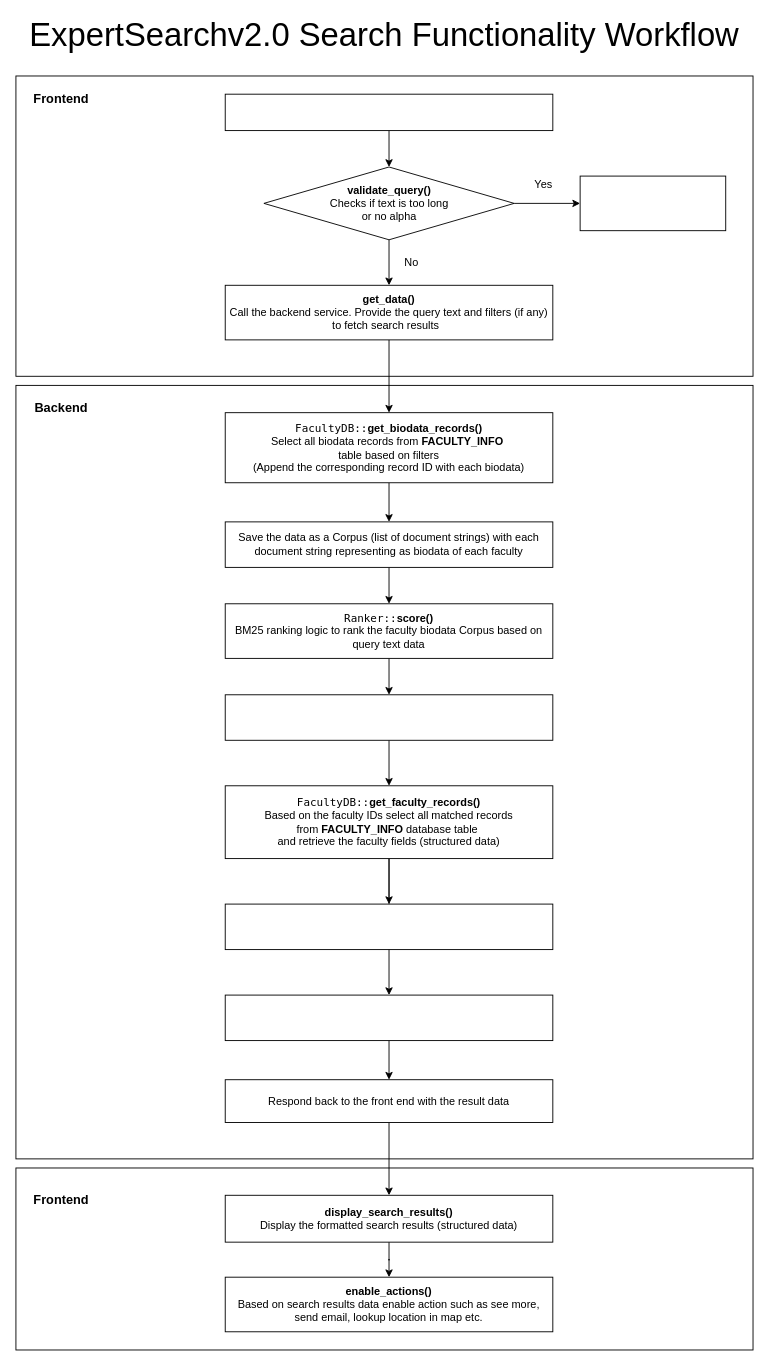
The diagram is 769 pixels wide and 1366 high, and some of its shapes have lost their labels. The shapes that lost their labels are listed below. From the top down, each one's box as (x1, y1, x2, y2) in pixels, then its label:
(224, 93, 553, 131): User enters query text (with or without filters)
(579, 175, 726, 231): show_error() Display error message "No Result Found"
(224, 694, 553, 740): Save the results of ranker.score() as ranked list of faculty IDs
(224, 903, 553, 950): Append the result row in a list of dictionaries
(224, 994, 553, 1041): do_cleanup() do any cleanup including deleting any temp files
